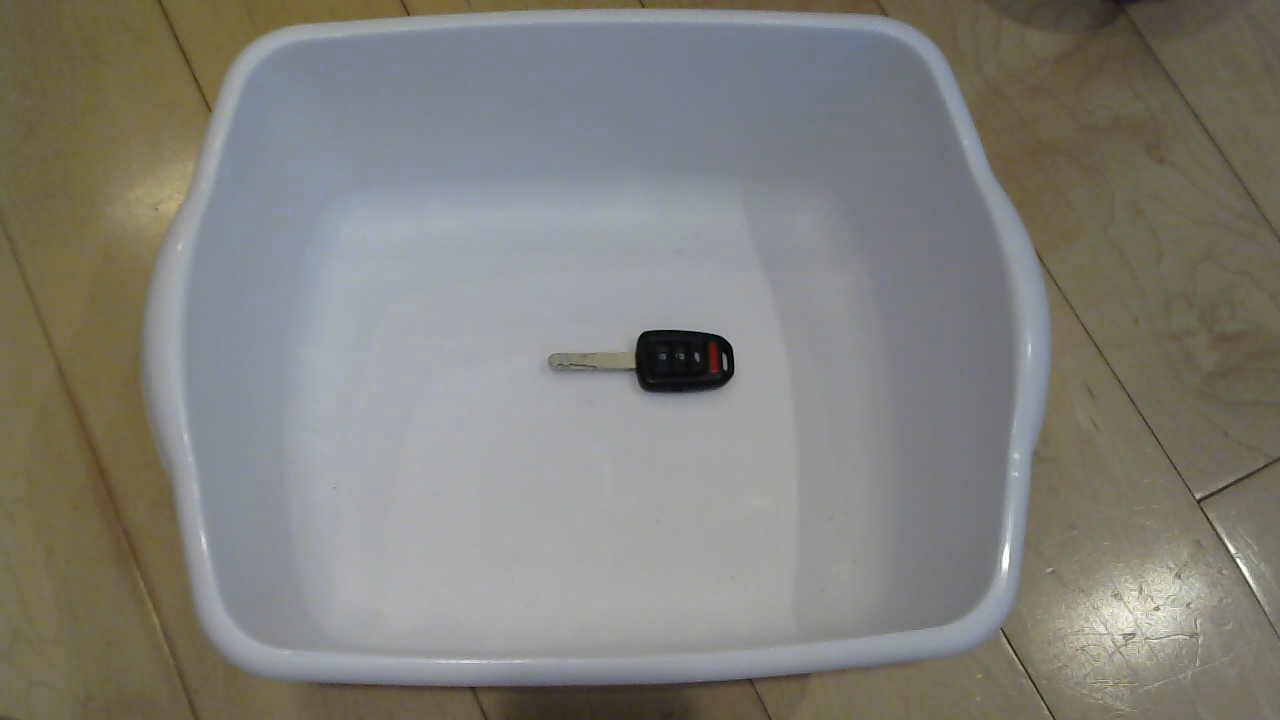key: (542, 318, 748, 407)
